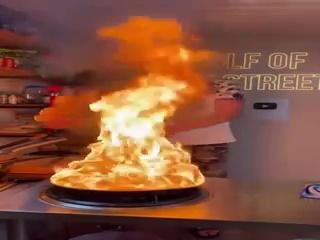Fire: (55, 9, 207, 185)
